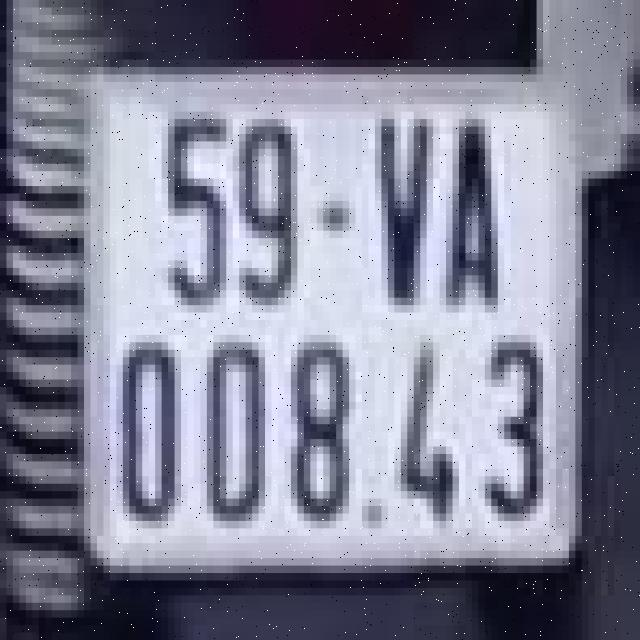0: (200, 324, 272, 532), (120, 346, 184, 525)
3: (478, 327, 550, 536)
4: (391, 331, 462, 540)
5: (158, 97, 230, 305)
8: (281, 339, 359, 532)
9: (230, 93, 307, 316)
A: (443, 111, 514, 312)
V: (362, 93, 433, 309)
